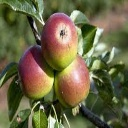apple: (54, 53, 91, 110)
